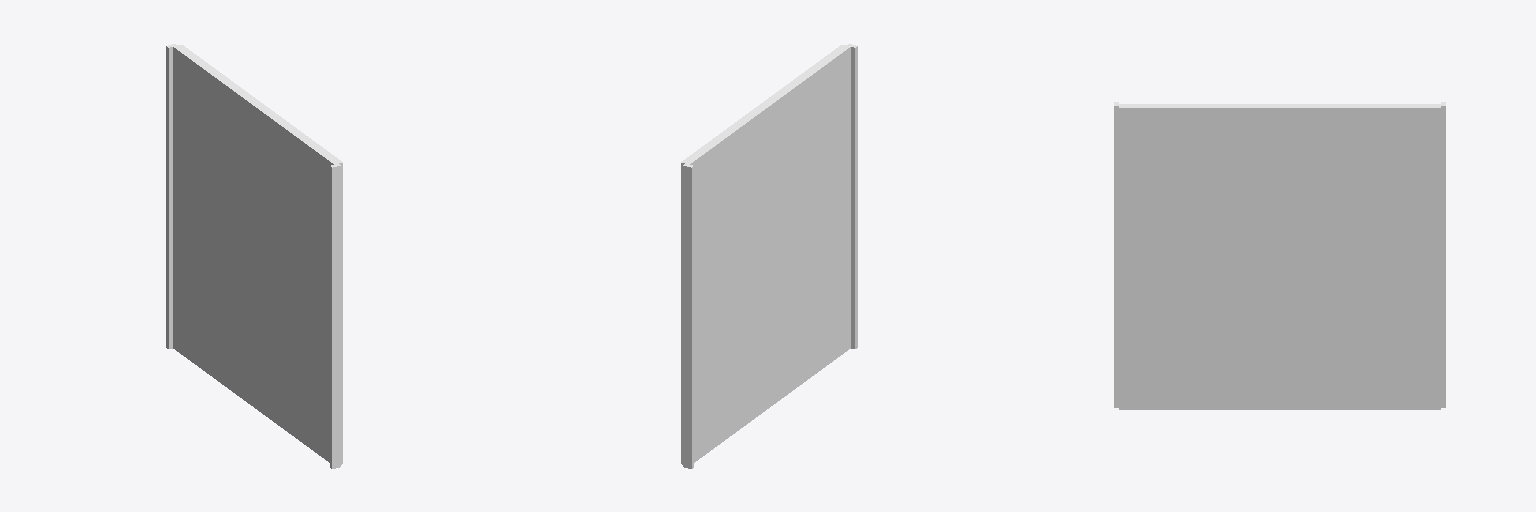
The model's file is modern_glass_wall_m.obj.
The picture shows the model from 3 angles: view 1: azimuth 30°, elevation 25°; view 2: azimuth 150°, elevation 25°; view 3: azimuth 270°, elevation 25°; orthographic projection.
Size of the model in its own units: 3 by 64 by 64.